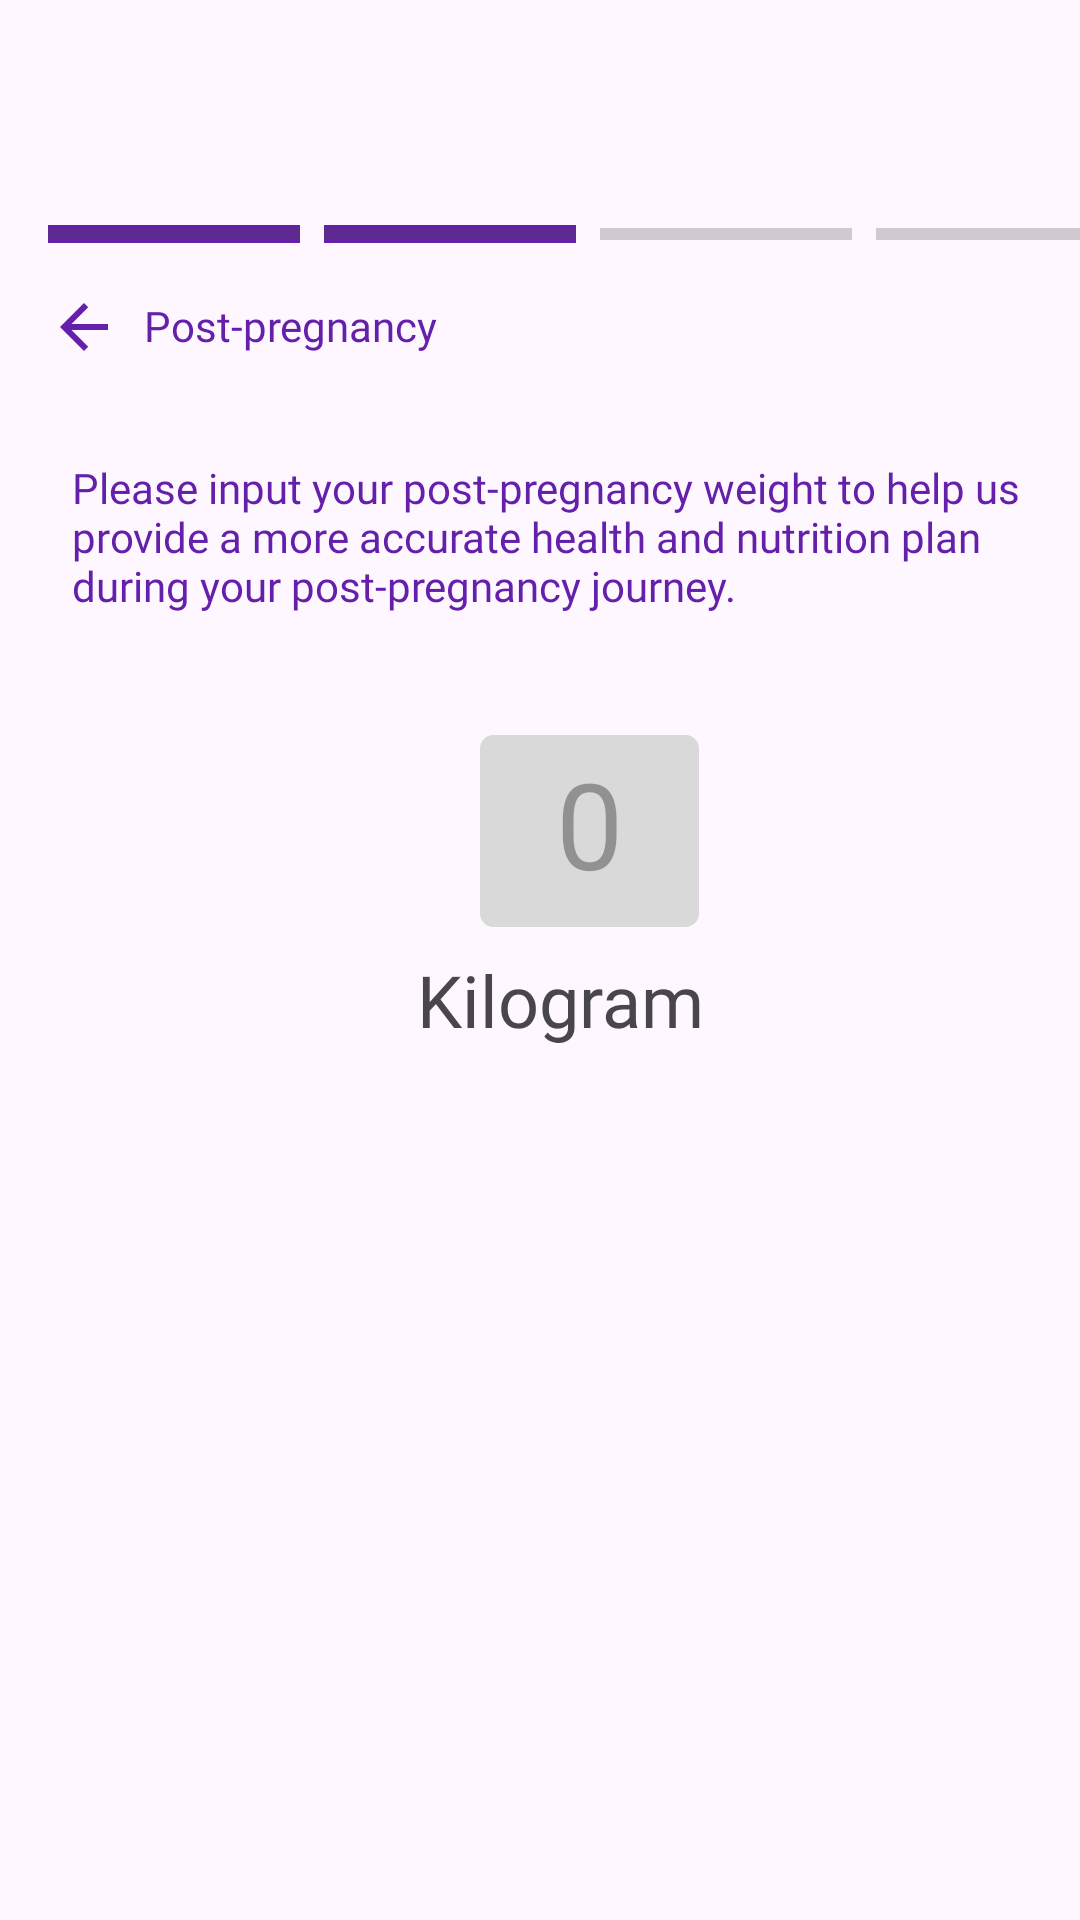

Icons on this 1080px×1920px Android screen, each with its box as (x1, y1, x2, y2):
arrowback: (60, 303, 108, 351)
